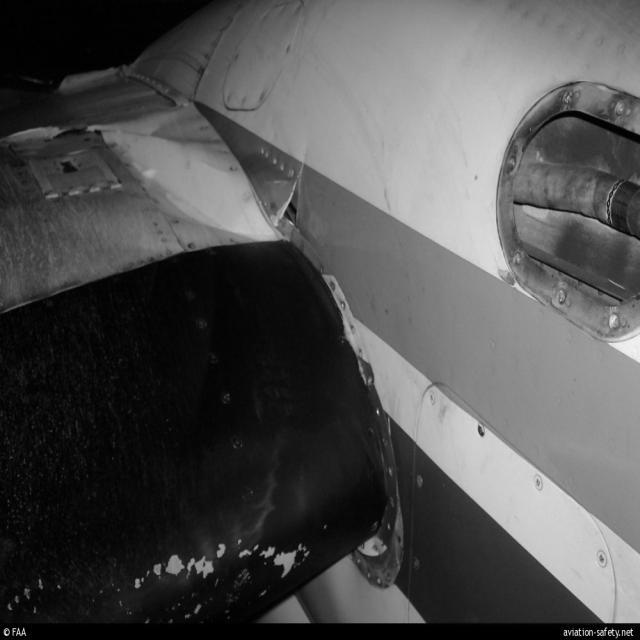crack: (269, 152, 310, 242)
